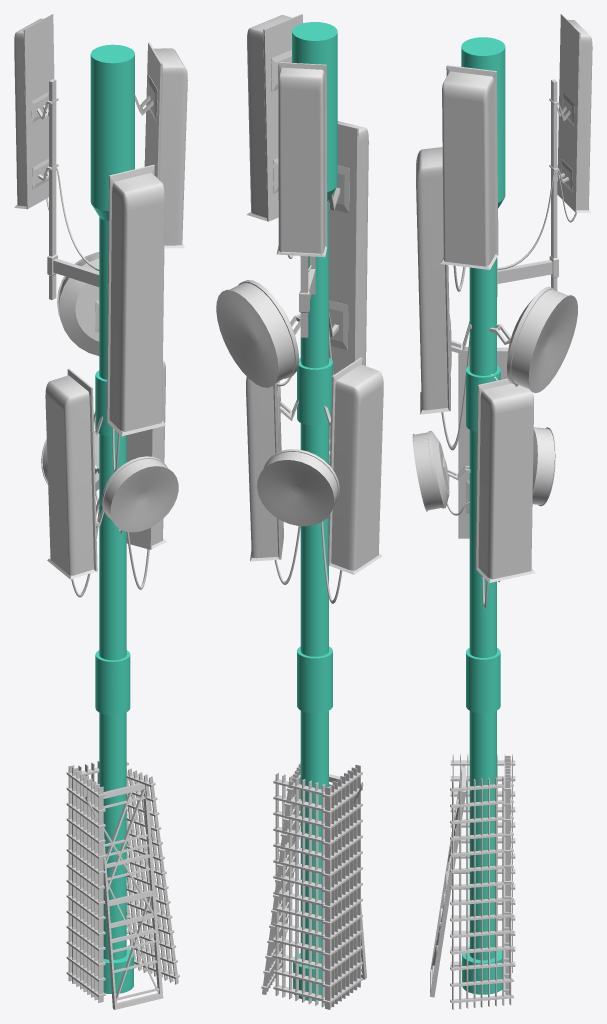
The model's file is SM_Base_Station_2.FBX.
3 views of the same model, side by side, from view 1: azimuth 30°, elevation 25°; view 2: azimuth 150°, elevation 25°; view 3: azimuth 270°, elevation 25° (orthographic). The views are drawn at different scales.
Visible parts, largest first — view 1: Base_Station_2; view 2: Base_Station_2; view 3: Base_Station_2.
Part boxes in pixels (x1,y1,x2,y2): Base_Station_2: (14,14,187,1009); Base_Station_2: (216,14,383,1009); Base_Station_2: (412,14,592,1009).
Size of the model in its own units: 94.05 by 657 by 113.
